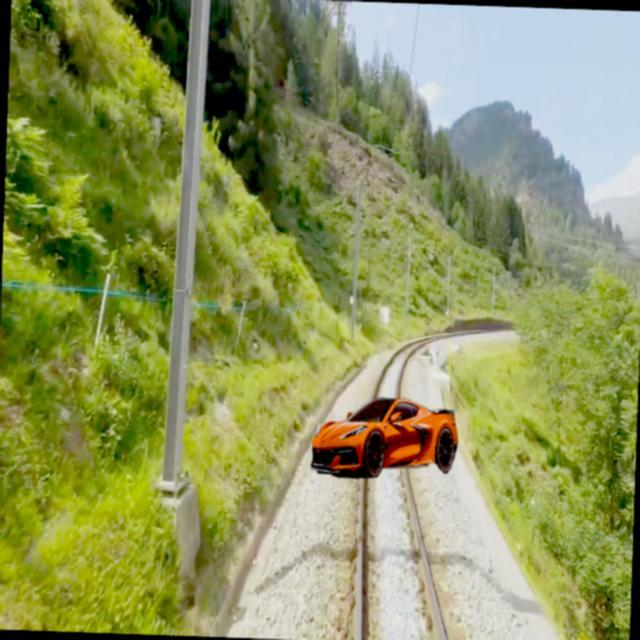danger: (303, 389, 465, 480)
rail: (326, 325, 520, 640)
